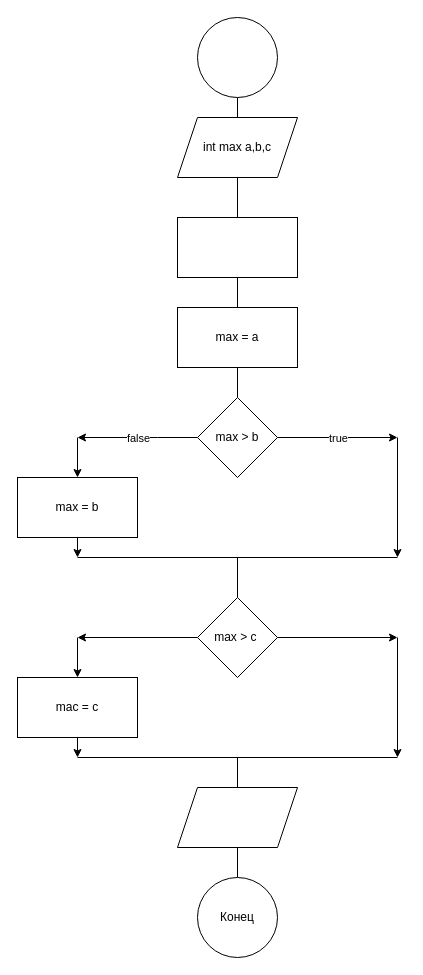
Some shapes in this 423 by 975 pixel diagram are drawn without their labels. Each missing label, with the box of its shape:
a = 1; b = 2; c = 3;: (176, 216, 298, 278)
max: (176, 786, 298, 848)
Начало: (196, 16, 278, 98)
